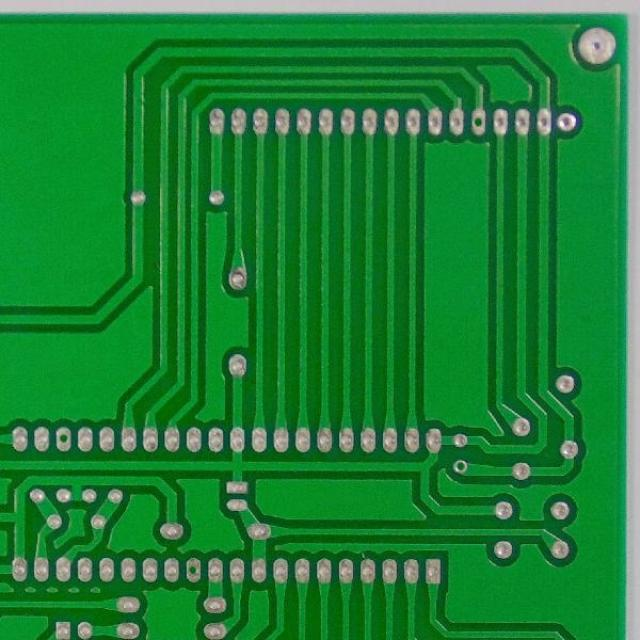missing_hole: (181, 558, 205, 582), (468, 110, 491, 135), (54, 426, 74, 451), (452, 458, 471, 476)
